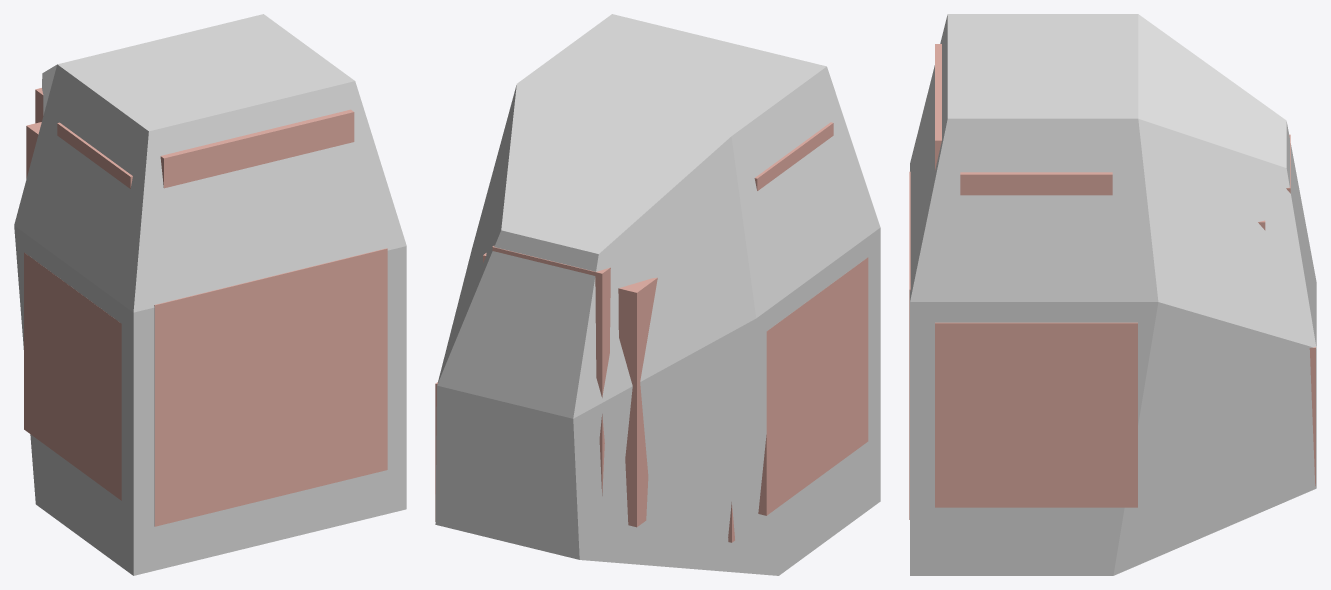
The model's file is Tree02_B1_1_01.FBX.
3 views of the same model, side by side, from view 1: azimuth 30°, elevation 25°; view 2: azimuth 150°, elevation 25°; view 3: azimuth 270°, elevation 25° (orthographic). The views are drawn at different scales.
Parts seen in each view (by area): view 1: Tree02_B1_Damage_1_01, Tree02_B1_Live_1_01; view 2: Tree02_B1_Damage_1_01, Tree02_B1_Live_1_01; view 3: Tree02_B1_Damage_1_01, Tree02_B1_Live_1_01.
Part boxes in pixels (box(x1,y1,x2,y2)): Tree02_B1_Damage_1_01: box(14, 14, 406, 575); Tree02_B1_Live_1_01: box(24, 88, 387, 526); Tree02_B1_Damage_1_01: box(435, 14, 880, 575); Tree02_B1_Live_1_01: box(435, 122, 868, 542); Tree02_B1_Damage_1_01: box(910, 14, 1316, 575); Tree02_B1_Live_1_01: box(909, 44, 1315, 519).
Size of the model in its own units: 1.72 by 2.53 by 2.12.
